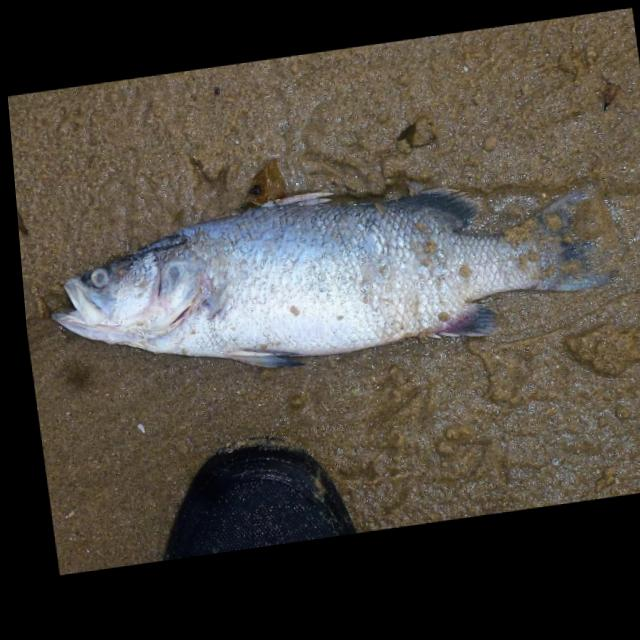Seabass: (29, 148, 632, 404)
